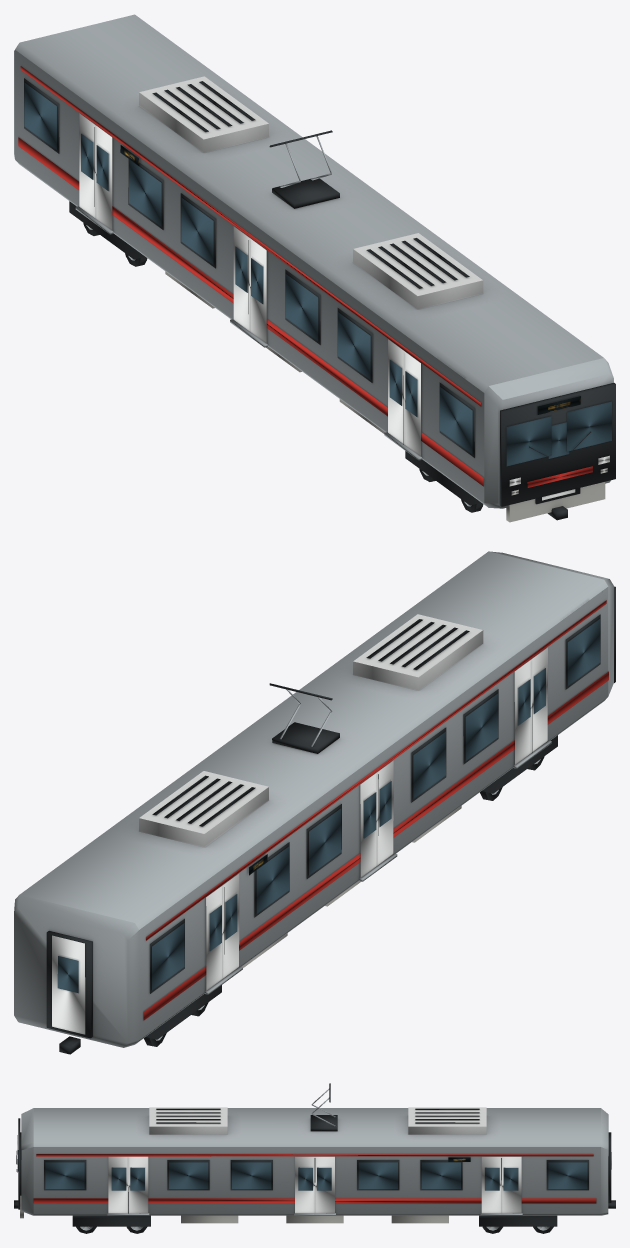
Rendered from regional_cab.lod1.obj.
3 views of the same model, one above another, from view 1: azimuth 30°, elevation 25°; view 2: azimuth 150°, elevation 25°; view 3: azimuth 270°, elevation 25° (orthographic). The views are drawn at different scales.
Parts seen in each view (by area): view 1: regional_cab; view 2: regional_cab; view 3: regional_cab.
Part boxes in pixels (x1=…): regional_cab: x1=14, y1=14, x2=615, y2=522; regional_cab: x1=14, y1=551, x2=615, y2=1054; regional_cab: x1=14, y1=1083, x2=615, y2=1233.
Size of the model in its own units: 3.08 by 4.83 by 20.
1 material, 1 textured.
